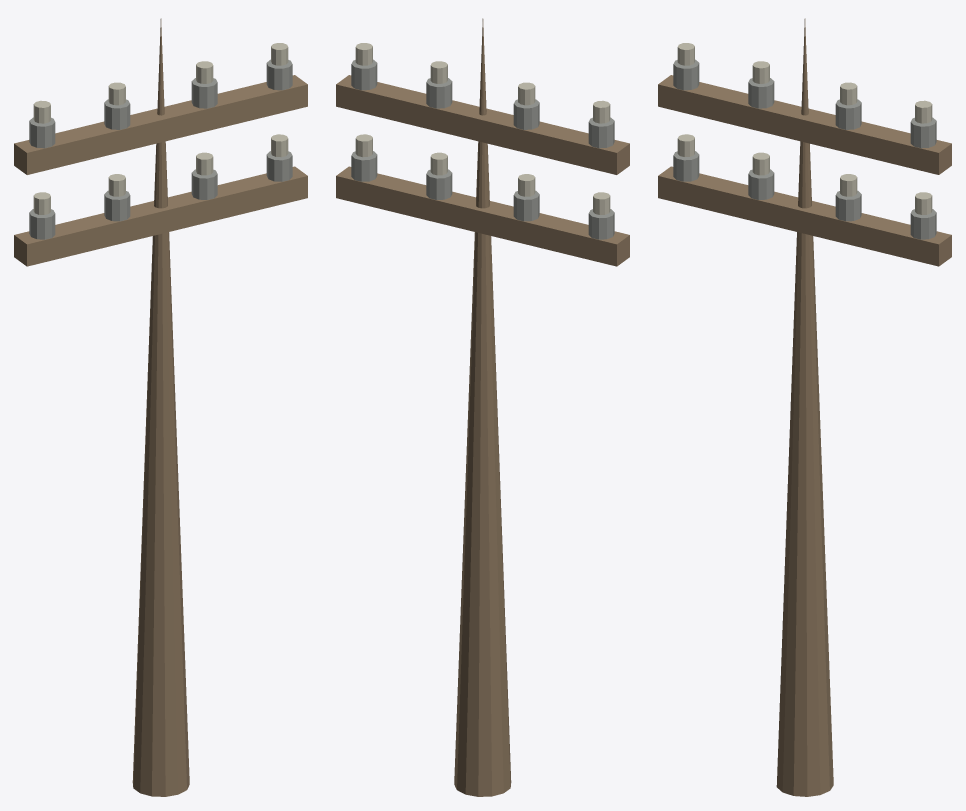
File: telegrafenmast_dorf.glb
3 renders of one model, left to right at view 1: azimuth 30°, elevation 25°; view 2: azimuth 150°, elevation 25°; view 3: azimuth 330°, elevation 25°, orthographic.
Visible parts, largest first — view 1: telegrafenmast_dorf_n1, telegrafenmast_dorf_n11, telegrafenmast_dorf_n2, telegrafenmast_dorf_n16, telegrafenmast_dorf_n18, telegrafenmast_dorf_n5, telegrafenmast_dorf_n12, telegrafenmast_dorf_n3, telegrafenmast_dorf_n9, telegrafenmast_dorf_n14, telegrafenmast_dorf_n7; view 2: telegrafenmast_dorf_n1, telegrafenmast_dorf_n11, telegrafenmast_dorf_n2, telegrafenmast_dorf_n16, telegrafenmast_dorf_n18, telegrafenmast_dorf_n5, telegrafenmast_dorf_n12, telegrafenmast_dorf_n3, telegrafenmast_dorf_n9, telegrafenmast_dorf_n14, telegrafenmast_dorf_n7; view 3: telegrafenmast_dorf_n1, telegrafenmast_dorf_n11, telegrafenmast_dorf_n2, telegrafenmast_dorf_n14, telegrafenmast_dorf_n12, telegrafenmast_dorf_n7, telegrafenmast_dorf_n18, telegrafenmast_dorf_n3, telegrafenmast_dorf_n9, telegrafenmast_dorf_n16, telegrafenmast_dorf_n5.
Part boxes in pixels (<box>): telegrafenmast_dorf_n1: <box>132,18,189,796</box>; telegrafenmast_dorf_n11: <box>14,75,307,174</box>; telegrafenmast_dorf_n2: <box>14,166,307,266</box>; telegrafenmast_dorf_n16: <box>191,78,217,108</box>; telegrafenmast_dorf_n18: <box>266,59,292,90</box>; telegrafenmast_dorf_n5: <box>104,190,130,221</box>; telegrafenmast_dorf_n12: <box>29,117,55,148</box>; telegrafenmast_dorf_n3: <box>29,209,55,239</box>; telegrafenmast_dorf_n9: <box>266,151,292,181</box>; telegrafenmast_dorf_n14: <box>104,99,130,129</box>; telegrafenmast_dorf_n7: <box>191,169,217,199</box>; telegrafenmast_dorf_n1: <box>454,18,511,796</box>; telegrafenmast_dorf_n11: <box>336,75,629,174</box>; telegrafenmast_dorf_n2: <box>336,166,629,266</box>; telegrafenmast_dorf_n16: <box>426,78,452,108</box>; telegrafenmast_dorf_n18: <box>351,59,377,90</box>; telegrafenmast_dorf_n5: <box>513,190,539,221</box>; telegrafenmast_dorf_n12: <box>588,117,614,148</box>; telegrafenmast_dorf_n3: <box>588,209,614,239</box>; telegrafenmast_dorf_n9: <box>351,151,377,181</box>; telegrafenmast_dorf_n14: <box>513,99,539,129</box>; telegrafenmast_dorf_n7: <box>426,169,452,199</box>; telegrafenmast_dorf_n1: <box>776,18,833,796</box>; telegrafenmast_dorf_n11: <box>658,75,951,174</box>; telegrafenmast_dorf_n2: <box>658,166,951,266</box>; telegrafenmast_dorf_n14: <box>748,78,774,108</box>; telegrafenmast_dorf_n12: <box>673,59,699,90</box>; telegrafenmast_dorf_n7: <box>835,190,861,221</box>; telegrafenmast_dorf_n18: <box>910,117,936,148</box>; telegrafenmast_dorf_n3: <box>673,151,699,181</box>; telegrafenmast_dorf_n9: <box>910,209,936,239</box>; telegrafenmast_dorf_n16: <box>835,99,861,129</box>; telegrafenmast_dorf_n5: <box>748,169,774,199</box>.
Bounding box in the file's own units: 2.25 × 5.9 × 0.3971.
